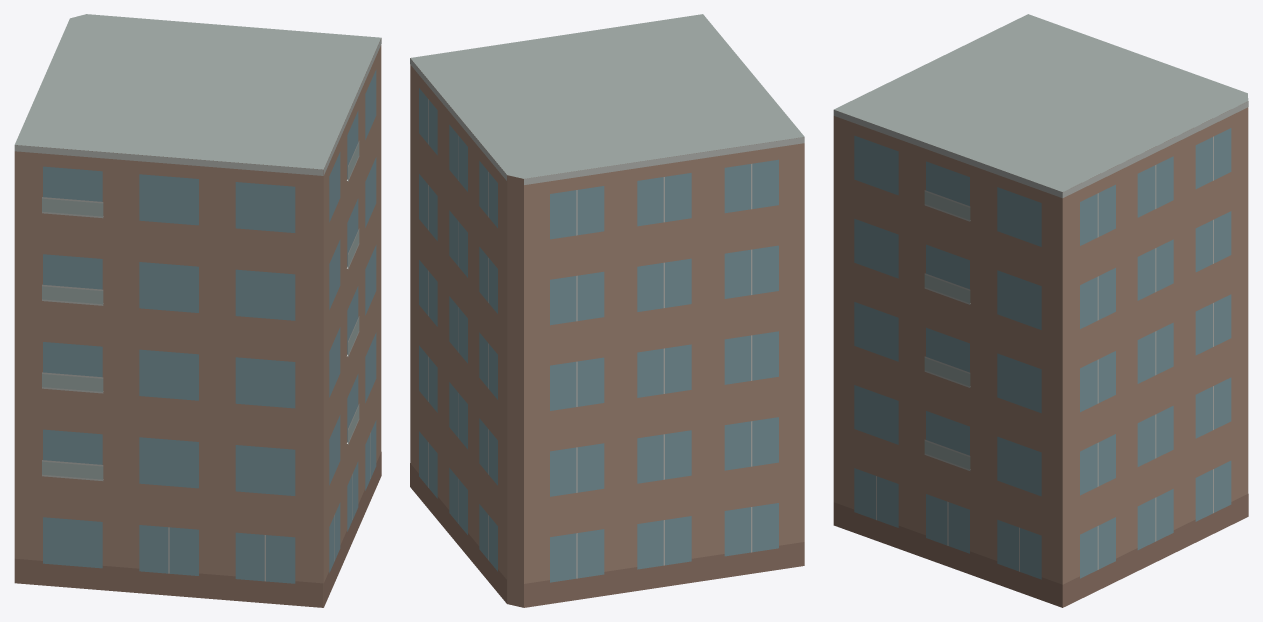
The model's file is survey-upis-32842802.glb.
3 views of the same model, side by side, from view 1: azimuth 30°, elevation 25°; view 2: azimuth 150°, elevation 25°; view 3: azimuth 270°, elevation 25° (orthographic). The views are drawn at different scales.
Parts seen in each view (by area): view 1: survey-upis-32842802.tmp; view 2: survey-upis-32842802.tmp; view 3: survey-upis-32842802.tmp.
Part boxes in pixels (box(x1,y1,x2,y2)): survey-upis-32842802.tmp: box(14, 14, 381, 607); survey-upis-32842802.tmp: box(410, 14, 804, 607); survey-upis-32842802.tmp: box(833, 14, 1248, 607).
Size of the model in its own units: 15.27 by 16.6 by 15.02.
